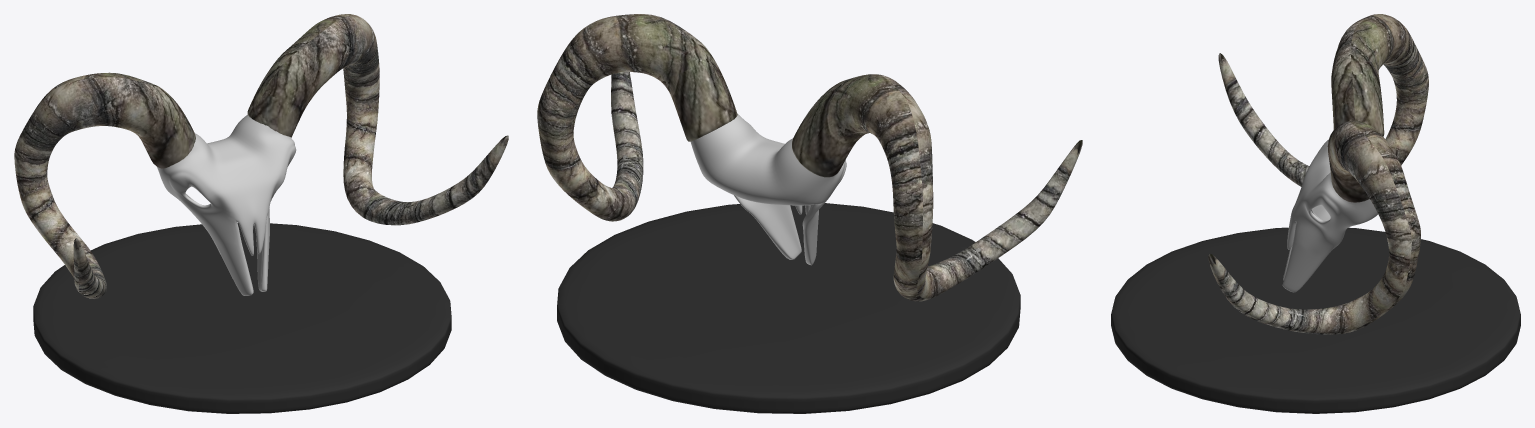
The model's file is goatSkull.gltf.
3 renders of one model, left to right at view 1: azimuth 30°, elevation 25°; view 2: azimuth 150°, elevation 25°; view 3: azimuth 270°, elevation 25°, orthographic. The views are drawn at different scales.
Visible parts, largest first — view 1: Cylinder, horn, head; view 2: Cylinder, horn, head; view 3: Cylinder, horn, head.
Boxes of the visible parts, <box> form: Cylinder: <box>33,223,451,413</box>; horn: <box>14,14,508,299</box>; head: <box>157,114,296,295</box>; Cylinder: <box>557,203,1020,413</box>; horn: <box>537,14,1082,301</box>; head: <box>690,114,846,265</box>; Cylinder: <box>1111,227,1520,413</box>; horn: <box>1208,14,1428,334</box>; head: <box>1282,139,1377,292</box>.
Bounding box in the file's own units: 7.12 × 4.19 × 6.04.
